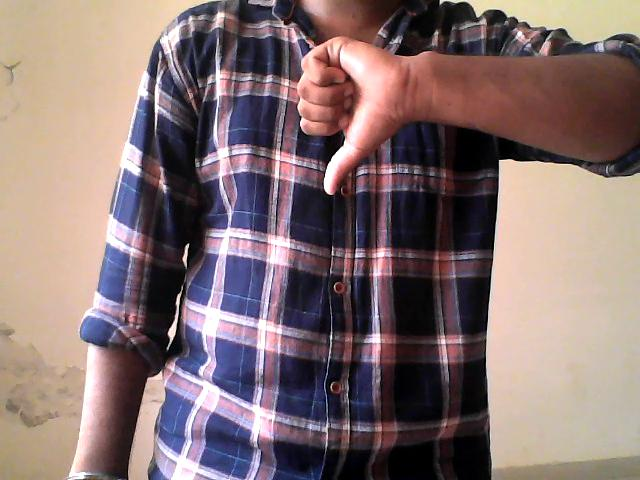thumbs-down: (264, 14, 430, 200)
